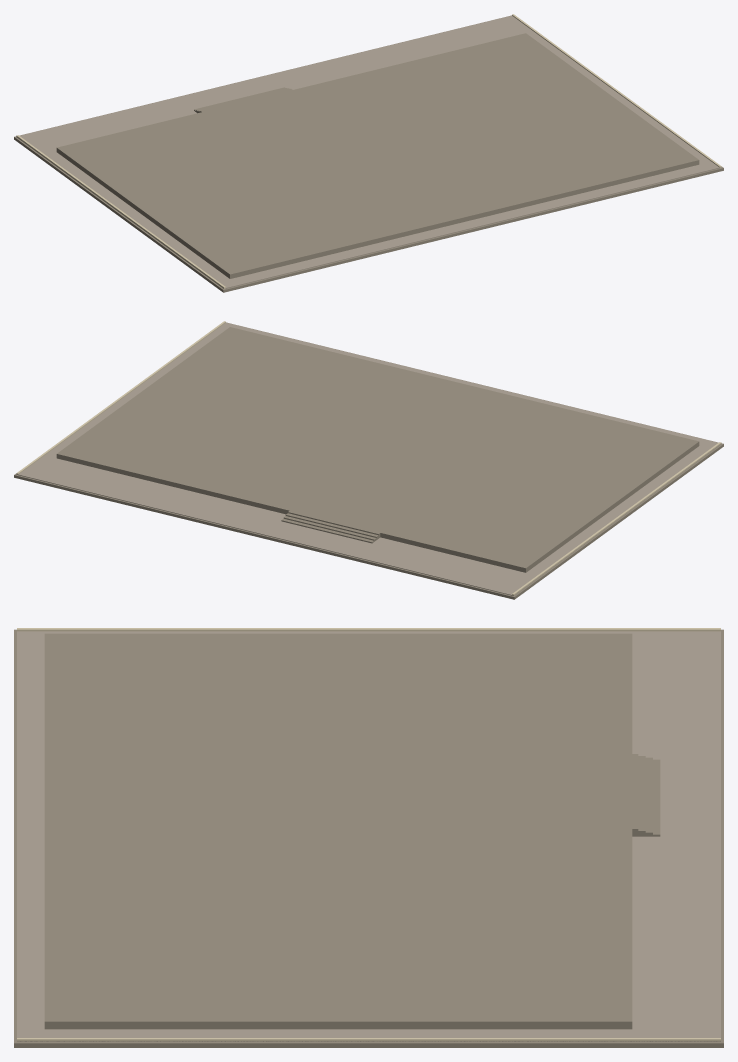
Rendered from KOL_T1_METROPOLITAN__00_Foundation.fbx.
The picture shows the model from 3 angles, top to bottom: view 1: azimuth 30°, elevation 25°; view 2: azimuth 150°, elevation 25°; view 3: azimuth 270°, elevation 25°; orthographic projection. The views are drawn at different scales.
Visible parts, largest first — view 1: KOL_T1_METROPOLITAN__00_Foundation__KOL_T1_HeritageStone, KOL_T1_METROPOLITAN__00_Foundation__KOL_T1_HeritagePaving, KOL_T1_METROPOLITAN__00_Foundation__KOL_T1_HeritageCream; view 2: KOL_T1_METROPOLITAN__00_Foundation__KOL_T1_HeritageStone, KOL_T1_METROPOLITAN__00_Foundation__KOL_T1_HeritagePaving, KOL_T1_METROPOLITAN__00_Foundation__KOL_T1_HeritageCream; view 3: KOL_T1_METROPOLITAN__00_Foundation__KOL_T1_HeritageStone, KOL_T1_METROPOLITAN__00_Foundation__KOL_T1_HeritagePaving, KOL_T1_METROPOLITAN__00_Foundation__KOL_T1_HeritageCream.
Part boxes in pixels (x1,y1,x2,y2): KOL_T1_METROPOLITAN__00_Foundation__KOL_T1_HeritageStone: [14, 15, 723, 292]; KOL_T1_METROPOLITAN__00_Foundation__KOL_T1_HeritagePaving: [16, 15, 720, 288]; KOL_T1_METROPOLITAN__00_Foundation__KOL_T1_HeritageCream: [16, 14, 721, 288]; KOL_T1_METROPOLITAN__00_Foundation__KOL_T1_HeritageStone: [14, 322, 723, 599]; KOL_T1_METROPOLITAN__00_Foundation__KOL_T1_HeritagePaving: [16, 322, 721, 595]; KOL_T1_METROPOLITAN__00_Foundation__KOL_T1_HeritageCream: [16, 321, 721, 595]; KOL_T1_METROPOLITAN__00_Foundation__KOL_T1_HeritageStone: [14, 629, 723, 1047]; KOL_T1_METROPOLITAN__00_Foundation__KOL_T1_HeritagePaving: [17, 631, 720, 1041]; KOL_T1_METROPOLITAN__00_Foundation__KOL_T1_HeritageCream: [17, 628, 720, 1041].
Size of the model in its own units: 160 by 2.4 by 116.
